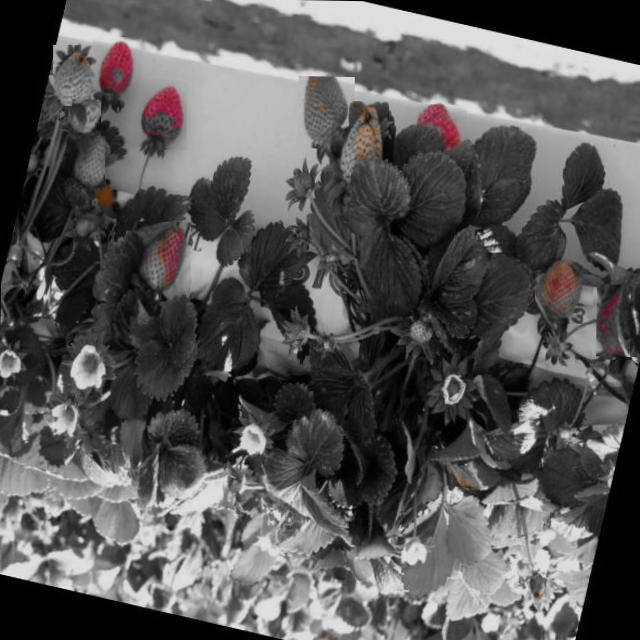ripe: (132, 79, 187, 149), (591, 286, 640, 359), (91, 36, 142, 103), (595, 283, 640, 356), (416, 104, 467, 154)
unripe: (325, 100, 389, 198), (124, 220, 190, 302), (297, 75, 354, 148), (534, 258, 584, 324), (52, 44, 101, 106), (334, 124, 380, 190), (65, 134, 105, 188), (72, 208, 106, 252), (71, 99, 101, 140)
